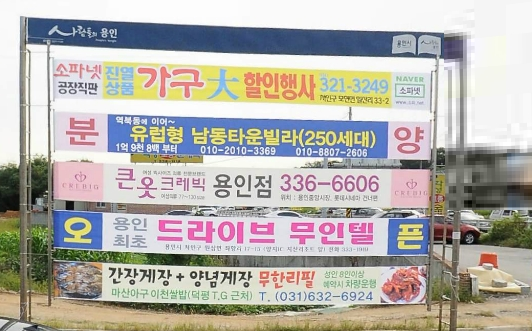banner: (18, 251, 456, 318), (18, 49, 461, 113), (12, 151, 455, 212), (19, 103, 455, 162), (16, 203, 446, 254)
